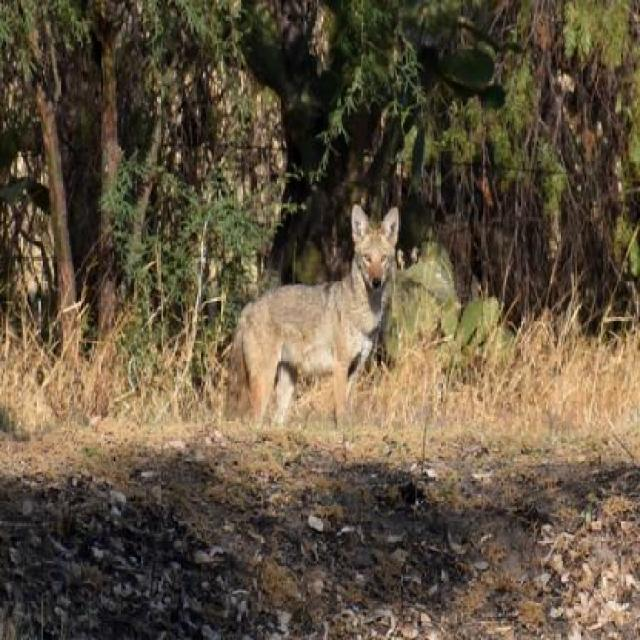Coyote: (228, 202, 400, 433)
